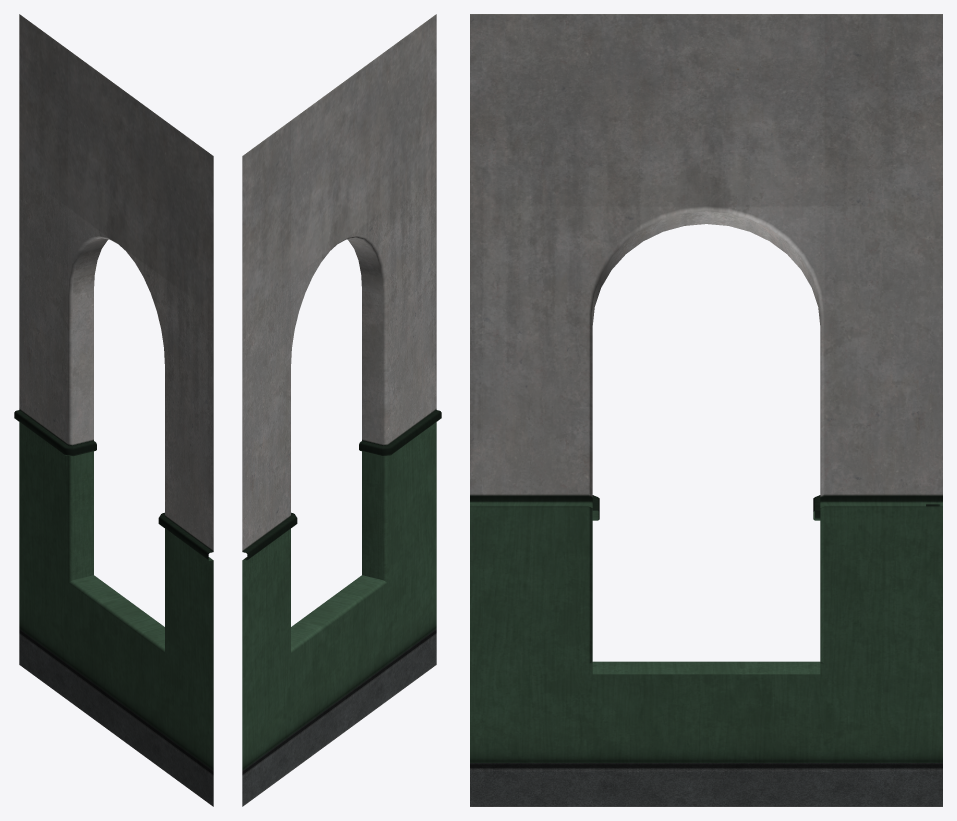
Rendered from Psychiatric_Ward_Infirmary_Wall_2m_Window_A.glb.
3 views of the same model, side by side, from view 1: azimuth 30°, elevation 25°; view 2: azimuth 150°, elevation 25°; view 3: azimuth 270°, elevation 25° (orthographic). The views are drawn at different scales.
Parts seen in each view (by area): view 1: Psychiatric_Ward_Infirmary_Wall_2m_Window_A; view 2: Psychiatric_Ward_Infirmary_Wall_2m_Window_A; view 3: Psychiatric_Ward_Infirmary_Wall_2m_Window_A.
Part boxes in pixels (x1,y1,x2,y2): Psychiatric_Ward_Infirmary_Wall_2m_Window_A: (14, 14, 213, 806); Psychiatric_Ward_Infirmary_Wall_2m_Window_A: (242, 14, 441, 806); Psychiatric_Ward_Infirmary_Wall_2m_Window_A: (470, 14, 942, 806).
Bounding box in the file's own units: 0.1737 × 3.7 × 2.
Materials: 1 (1 with a texture image).
